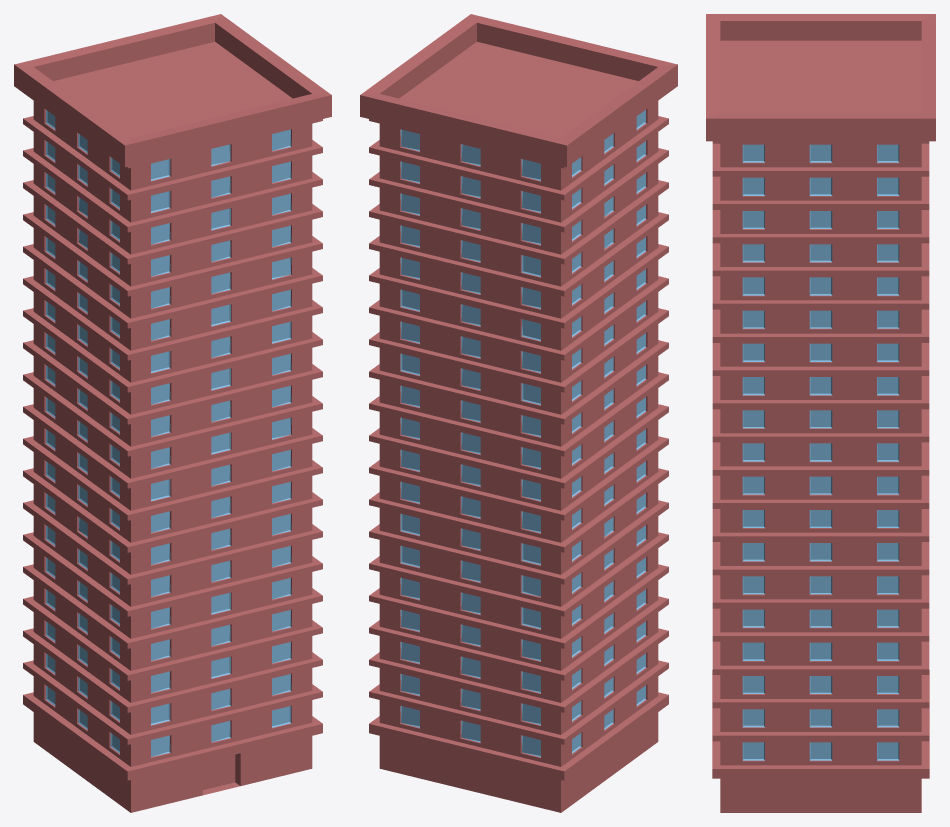
The model's file is Red Tall.fbx.
3 views of the same model, side by side, from view 1: azimuth 30°, elevation 25°; view 2: azimuth 150°, elevation 25°; view 3: azimuth 270°, elevation 25° (orthographic). The views are drawn at different scales.
Visible parts, largest first — view 1: Red Tall; view 2: Red Tall; view 3: Red Tall.
Part boxes in pixels (x1,y1,x2,y2): Red Tall: (14, 14, 331, 812); Red Tall: (360, 14, 677, 812); Red Tall: (706, 14, 935, 812).
Bounding box in the file's own units: 9.84 × 30.69 × 9.12.
